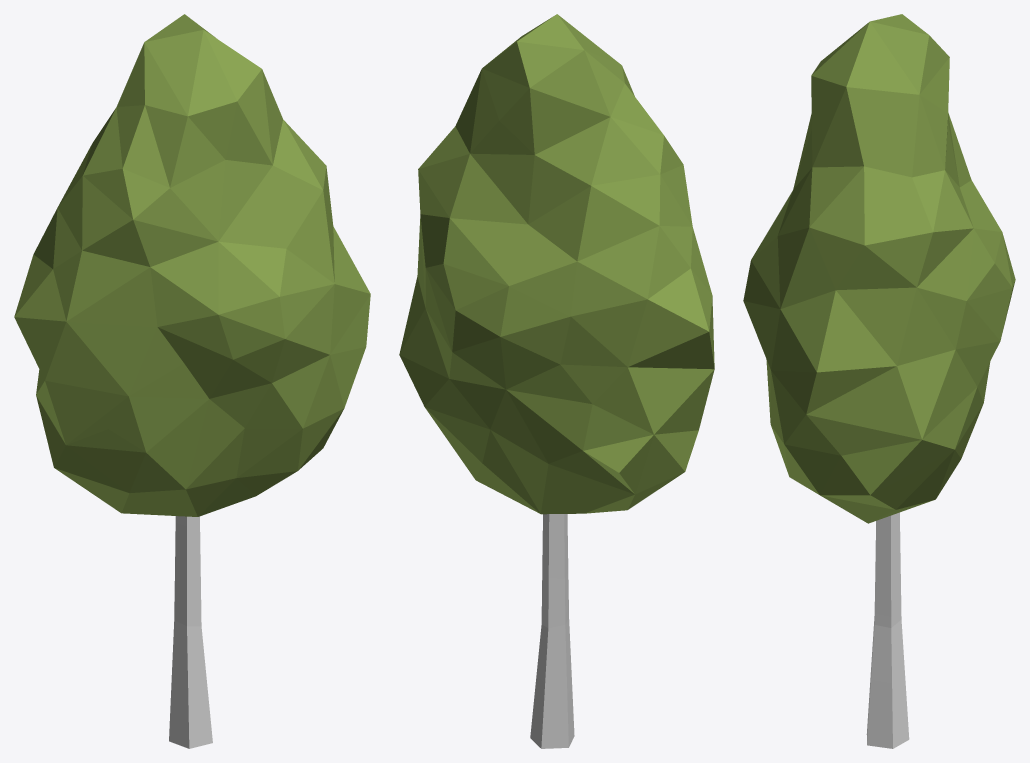
File: tree_birch02.fbx
The picture shows the model from 3 angles, left to right: view 1: azimuth 30°, elevation 25°; view 2: azimuth 150°, elevation 25°; view 3: azimuth 270°, elevation 25°; orthographic projection.
Visible parts, largest first — view 1: tree_birch02; view 2: tree_birch02; view 3: tree_birch02.
Boxes of the visible parts, bbox=[...] form: tree_birch02: bbox=[14, 14, 370, 748]; tree_birch02: bbox=[399, 14, 714, 748]; tree_birch02: bbox=[743, 14, 1015, 748].
Size of the model in its own units: 2.73 by 5.98 by 2.05.
